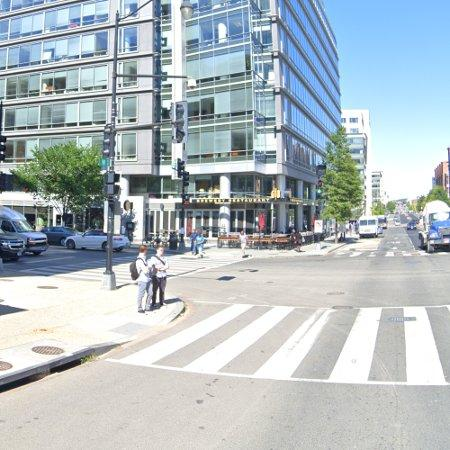crosswalks: (112, 305, 450, 387)
